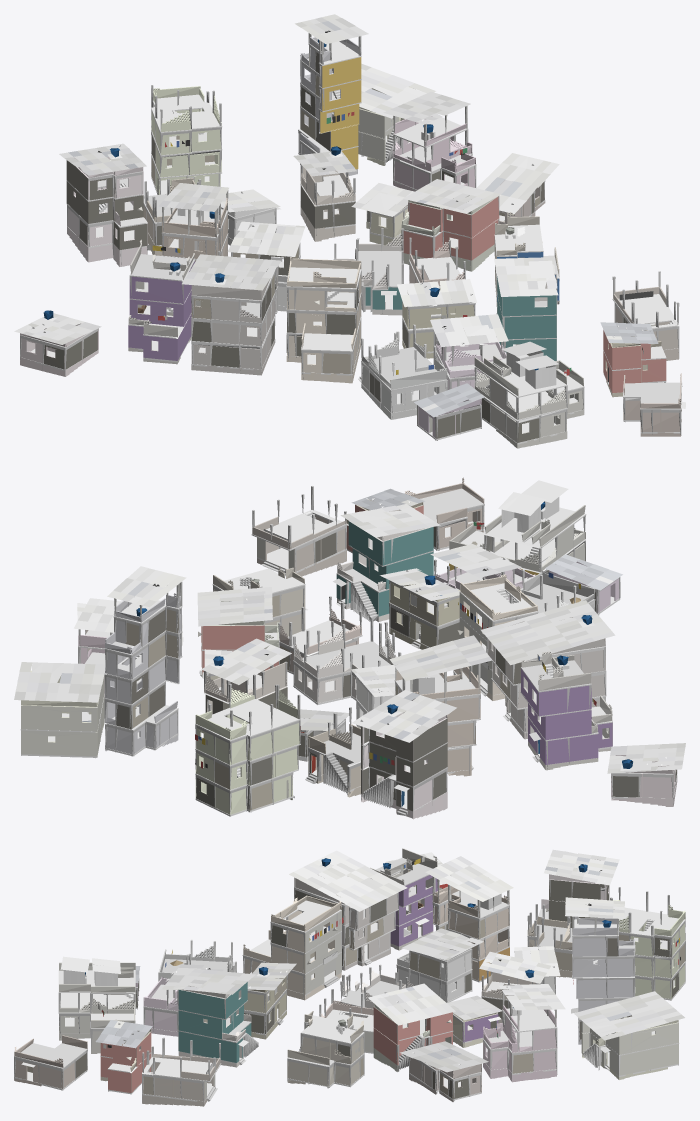
3 views of the same model, one above another, from view 1: azimuth 30°, elevation 25°; view 2: azimuth 150°, elevation 25°; view 3: azimuth 270°, elevation 25° (orthographic). The views are drawn at different scales.
Parts seen in each view (by area): view 1: T_23_24; view 2: T_23_24; view 3: T_23_24.
Part boxes in pixels (x1,y1,x2,y2): T_23_24: [14, 14, 685, 448]; T_23_24: [14, 477, 685, 819]; T_23_24: [14, 848, 685, 1106].
Size of the model in its own units: 71.51 by 22.26 by 83.41.
